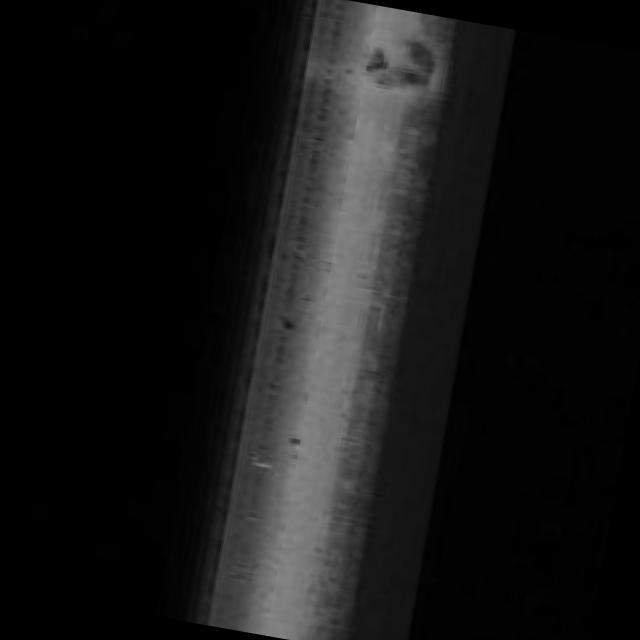defective: (292, 0, 502, 153)
non-defective: (185, 126, 512, 640)
